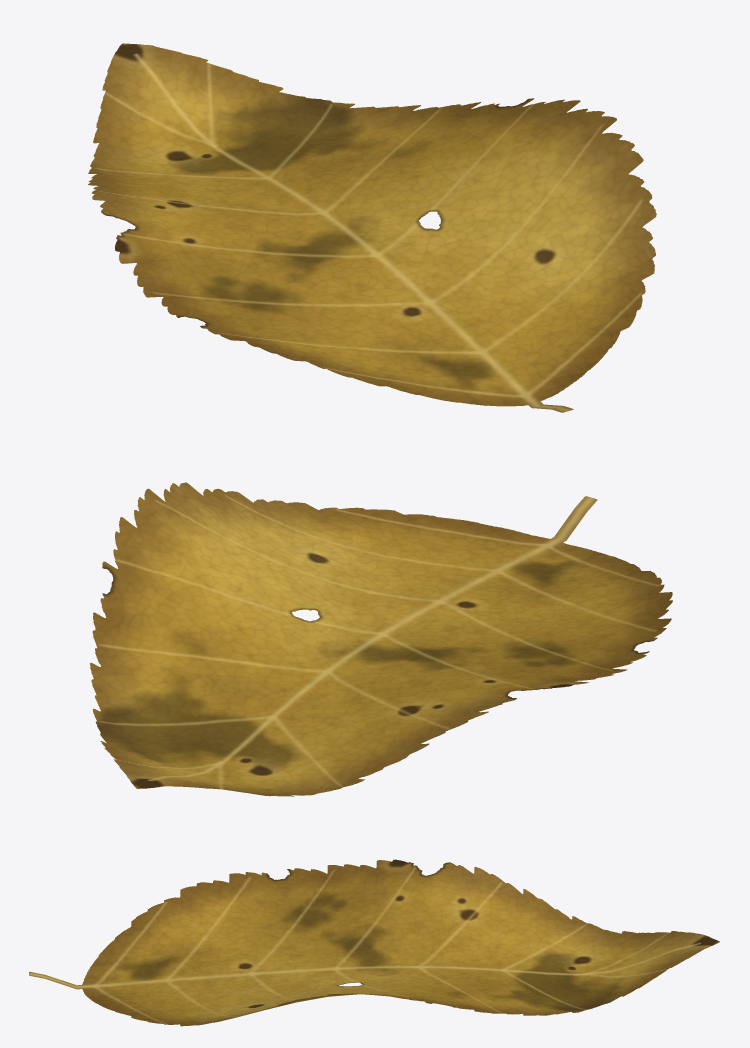
File: Litter_Birch.gltf
The picture shows the model from 3 angles, top to bottom: view 1: azimuth 30°, elevation 25°; view 2: azimuth 150°, elevation 25°; view 3: azimuth 270°, elevation 25°; orthographic projection. The views are drawn at different scales.
Visible parts, largest first — view 1: Litter_Birch; view 2: Litter_Birch; view 3: Litter_Birch.
Boxes of the visible parts, x1,y1,x2,y2 form: Litter_Birch: [88, 43, 656, 412]; Litter_Birch: [90, 482, 672, 796]; Litter_Birch: [29, 859, 719, 1026].
Bounding box in the file's own units: 0.6028 × 0.1364 × 0.9625.
1 material, 1 textured.
